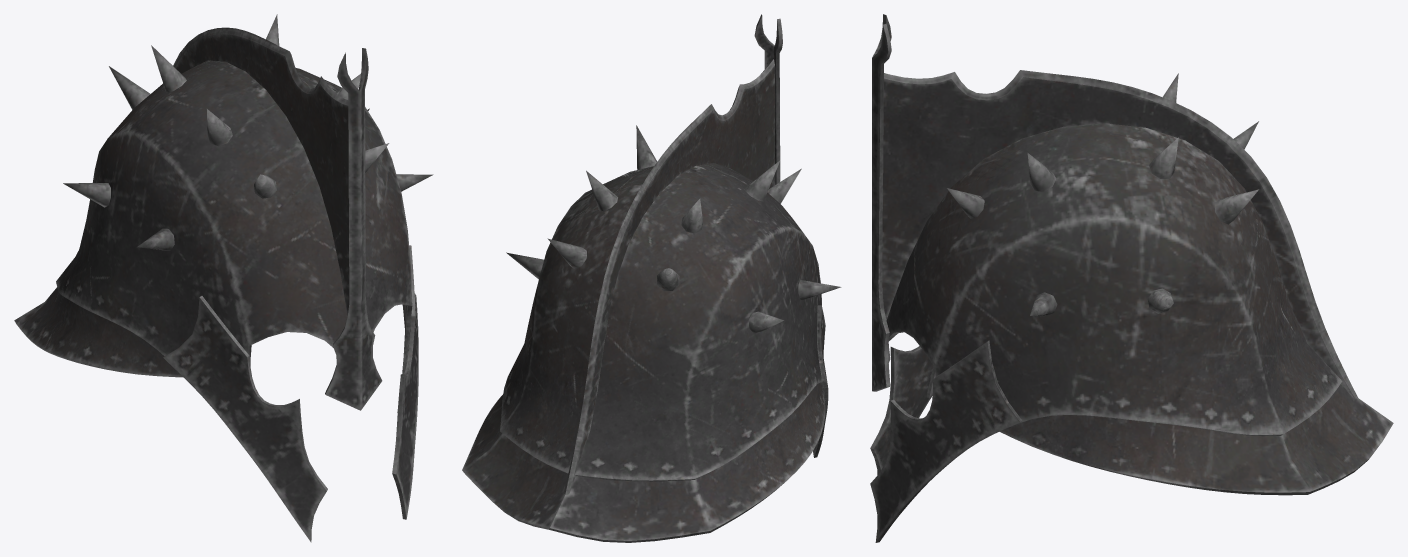
The model's file is sk_uruk_mordor_helmet_heavy_c1.fbx.
3 views of the same model, side by side, from view 1: azimuth 30°, elevation 25°; view 2: azimuth 150°, elevation 25°; view 3: azimuth 270°, elevation 25° (orthographic). The views are drawn at different scales.
Parts seen in each view (by area): view 1: sk_uruk_mordor_helmet_heavy_c1; view 2: sk_uruk_mordor_helmet_heavy_c1; view 3: sk_uruk_mordor_helmet_heavy_c1.
Boxes of the visible parts, x1,y1,x2,y2 form: sk_uruk_mordor_helmet_heavy_c1: (14,14,433,542); sk_uruk_mordor_helmet_heavy_c1: (462,14,841,542); sk_uruk_mordor_helmet_heavy_c1: (870,14,1393,542).
Bounding box in the file's own units: 0.2629 × 0.3469 × 0.3653.
Materials: 1 (1 with a texture image).
